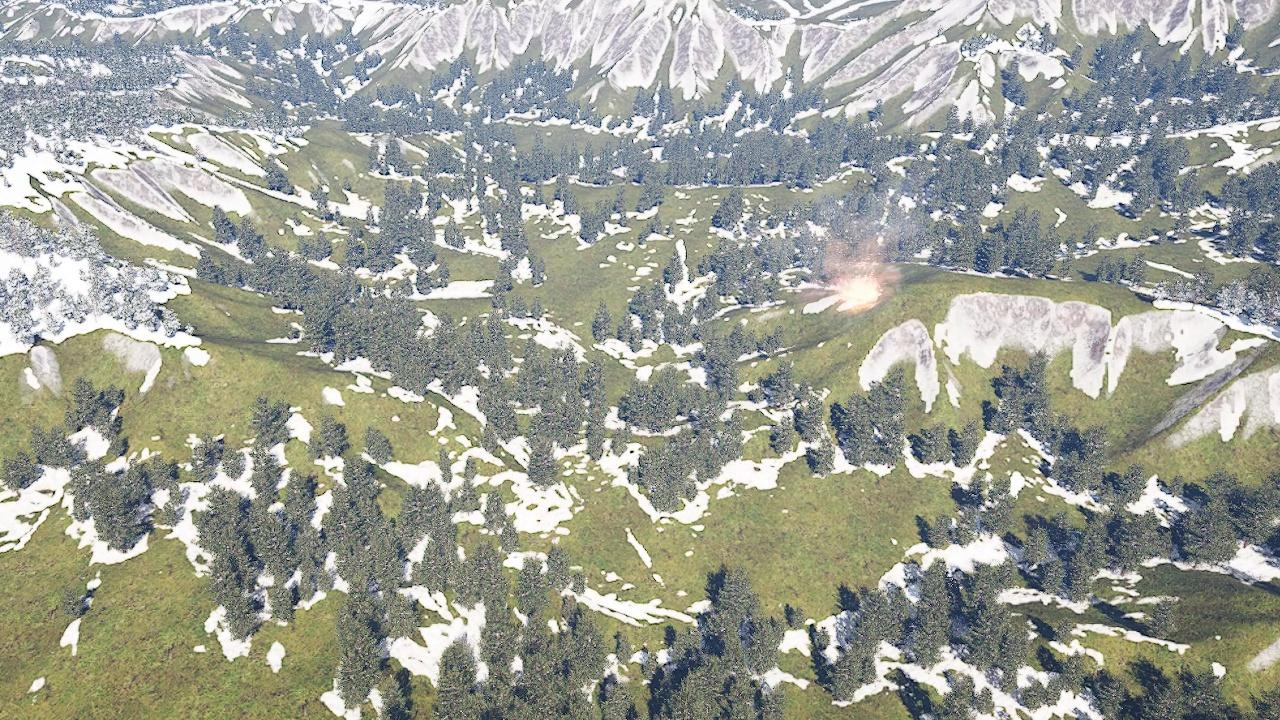fire: (840, 278, 884, 312)
smoke: (809, 191, 917, 282)
